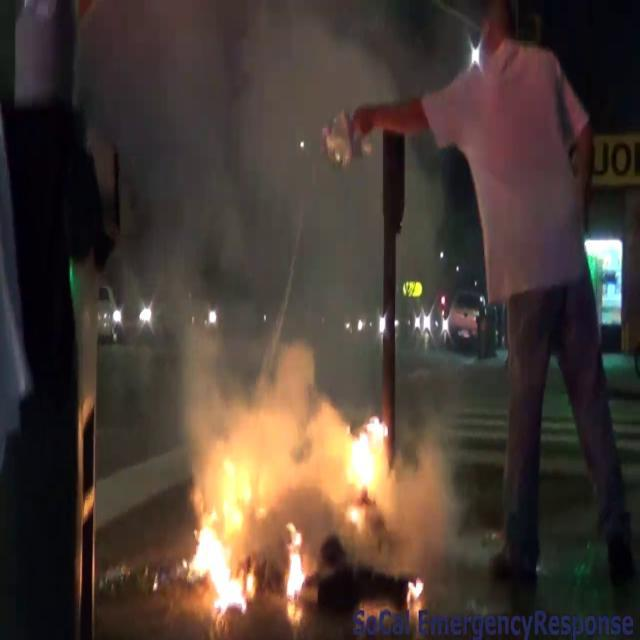Fire: (184, 436, 308, 622), (342, 408, 388, 506)
Smoke: (86, 6, 457, 412), (382, 418, 472, 570)
